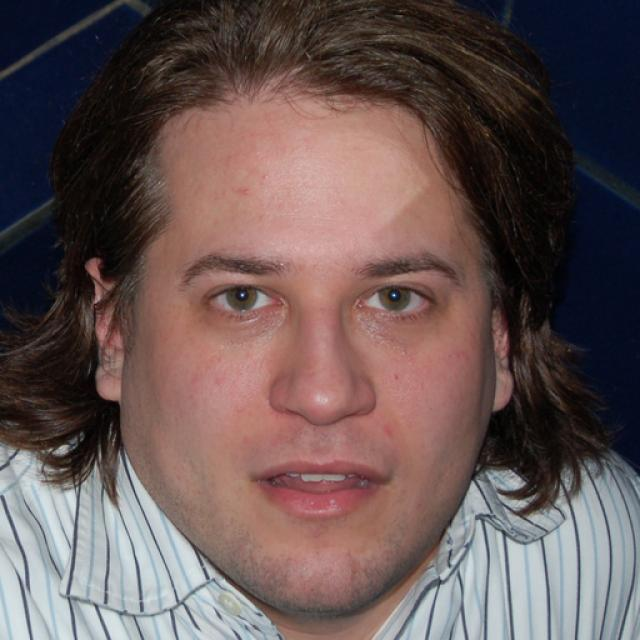neutral: (119, 82, 498, 618)
